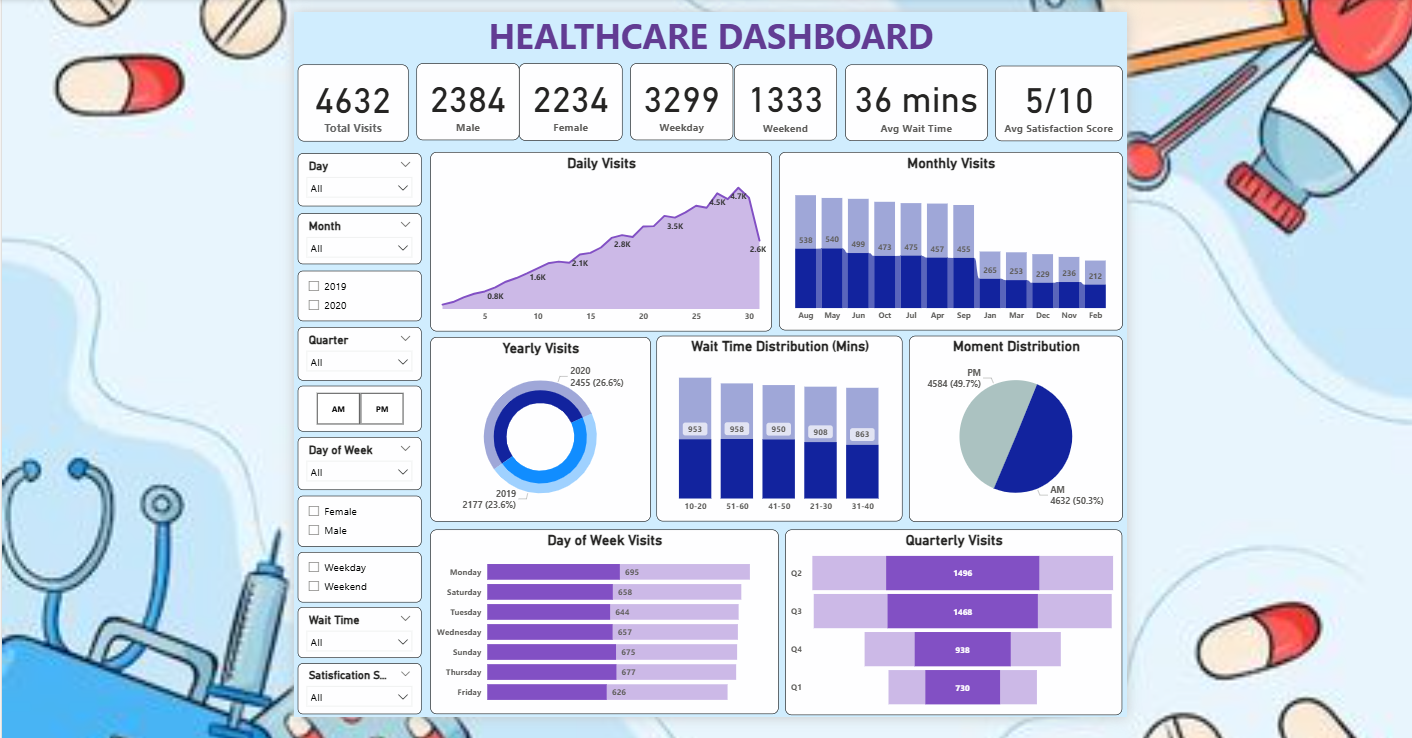

The dashboard page shown, as its layout file describes it:
{"tool":"powerbi","page":{"name":"Page 1","canvas":[1282,1086],"ordinal":0},"visuals":[{"type":"stackedAreaChart","title":"Daily Visits","fields":{"Category":["date_time table.day"],"Y":["Sum(date_time table.day)"]},"box":[210,215.7,525.7,275.7],"z":0},{"type":"columnChart","title":"Monthly Visits","fields":{"Category":["date_time table.month"],"Y":["CountNonNull(date_time table.month)"]},"box":[745.7,215.7,528.6,274.3],"z":1000},{"type":"donutChart","title":"Yearly Visits","fields":{"Y":["CountNonNull(date_time table.year)"],"Category":["date_time table.year"]},"box":[210,500,339.1,283.6],"z":2000},{"type":"clusteredBarChart","title":"Day of Week Visits","fields":{"Category":["date_time table.day of week"],"Y":["CountNonNull(date_time table.day of week)"]},"box":[210,795.7,535.7,284.3],"z":3000},{"type":"funnel","title":"Quarterly Visits","fields":{"Category":["date_time table.quarter"],"Y":["CountNonNull(date_time table.quarter)"]},"box":[755.7,795.7,518.6,285.7],"z":4000},{"type":"pieChart","title":"Moment Distribution","fields":{"Category":["date_time table.Moment"],"Y":["CountNonNull(date_time table.Moment)"]},"box":[945.5,498.2,329.1,286.4],"z":5000},{"type":"textbox","box":[0,0,1282.9,74.6],"z":6000},{"type":"lineStackedColumnComboChart","title":"Wait Time Distribution (Mins)","fields":{"Category":["date_time table.waittime_bucket"],"Y":["CountNonNull(date_time table.waittime_bucket)"]},"box":[557.3,498.2,378.2,285.5],"z":7000},{"type":"slicer","fields":{"Values":["date_time table.day of week"]},"box":[6.2,653.8,190,81.2],"z":8000},{"type":"slicer","fields":{"Values":["date_time table.Moment"]},"box":[6.2,575,190,70],"z":9000},{"type":"slicer","fields":{"Values":["date_time table.quarter"]},"box":[6.2,483.8,190,82.5],"z":10000},{"type":"slicer","fields":{"Values":["date_time table.year"]},"box":[6.2,397.5,190,77.5],"z":11000},{"type":"slicer","fields":{"Values":["date_time table.month"]},"box":[6.2,310,190,78.8],"z":12000},{"type":"slicer","fields":{"Values":["date_time table.day"]},"box":[5.7,218.2,190,81.4],"z":13000},{"type":"slicer","fields":{"Values":["patient table.patient_gender"]},"box":[6.2,743.8,190,78.8],"z":14000},{"type":"slicer","fields":{"Values":["date_time table.weekday/weekend"]},"box":[6.2,830,190,77.5],"z":15000},{"type":"slicer","fields":{"Values":["date_time table.waittime_bucket"]},"box":[6.2,915,190,78.8],"z":16000},{"type":"slicer","fields":{"Values":["activity table.satisfication_score"]},"box":[6.2,1001.2,190,78.8],"z":17000},{"type":"card","fields":{"Values":["Count(patient table.patient_id)"]},"box":[5.7,80,170,118.6],"z":18000},{"type":"card","fields":{"Values":["CountNonNull(patient table.patient_gender)"]},"box":[187.7,79.8,158.6,118.6],"z":19000},{"type":"card","fields":{"Values":["CountNonNull(patient table.patient_gender)"]},"box":[347,79.7,159.4,118.8],"z":20000},{"type":"card","fields":{"Values":["date_time table.Avg Wait Time"]},"box":[847.8,81.2,218.8,117.4],"z":21000},{"type":"card","fields":{"Values":["date_time table.Avg Satisfication Score"]},"box":[1079.7,82.6,195.7,115.9],"z":22000},{"type":"card","fields":{"Values":["CountNonNull(date_time table.weekday/weekend)"]},"box":[517.7,79.7,158.6,118.6],"z":23000},{"type":"card","fields":{"Values":["CountNonNull(date_time table.weekday/weekend)"]},"box":[676.3,81.2,158.6,117.1],"z":24000}]}

Visuals, with their boxes on the page's 1282x1086 design canvas (x1, y1, x2, y2). These are canvas units, not pixel positions in the 1412x738 screenshot, which may show the page scaled, cropped or inside an application window:
"Daily Visits" stackedAreaChart: locate(210, 216, 736, 491)
"Monthly Visits" columnChart: locate(746, 216, 1274, 490)
"Yearly Visits" donutChart: locate(210, 500, 549, 784)
"Day of Week Visits" clusteredBarChart: locate(210, 796, 746, 1080)
"Quarterly Visits" funnel: locate(756, 796, 1274, 1081)
"Moment Distribution" pieChart: locate(946, 498, 1275, 785)
textbox: locate(0, 0, 1283, 75)
"Wait Time Distribution (Mins)" lineStackedColumnComboChart: locate(557, 498, 936, 784)
slicer - date_time table.day of week: locate(6, 654, 196, 735)
slicer - date_time table.Moment: locate(6, 575, 196, 645)
slicer - date_time table.quarter: locate(6, 484, 196, 566)
slicer - date_time table.year: locate(6, 398, 196, 475)
slicer - date_time table.month: locate(6, 310, 196, 389)
slicer - date_time table.day: locate(6, 218, 196, 300)
slicer - patient table.patient_gender: locate(6, 744, 196, 823)
slicer - date_time table.weekday/weekend: locate(6, 830, 196, 908)
slicer - date_time table.waittime_bucket: locate(6, 915, 196, 994)
slicer - activity table.satisfication_score: locate(6, 1001, 196, 1080)
card - Count(patient table.patient_id): locate(6, 80, 176, 199)
card - CountNonNull(patient table.patient_gender): locate(188, 80, 346, 198)
card - CountNonNull(patient table.patient_gender): locate(347, 80, 506, 198)
card - date_time table.Avg Wait Time: locate(848, 81, 1067, 199)
card - date_time table.Avg Satisfication Score: locate(1080, 83, 1275, 198)
card - CountNonNull(date_time table.weekday/weekend): locate(518, 80, 676, 198)
card - CountNonNull(date_time table.weekday/weekend): locate(676, 81, 835, 198)
